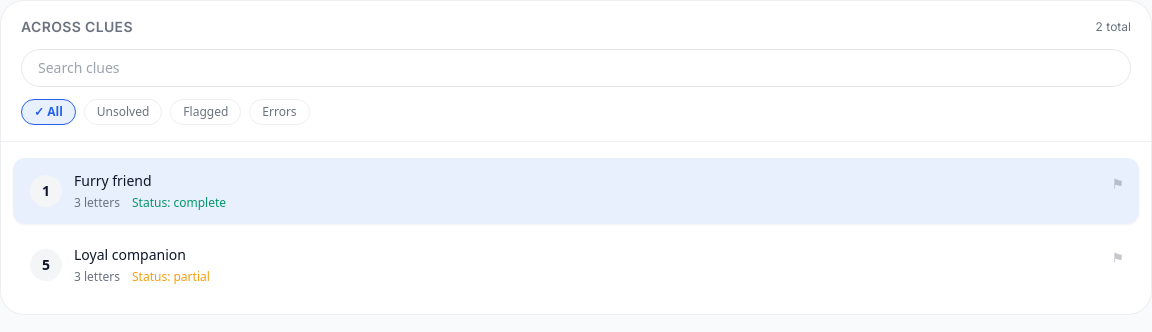
ClueList › renders clue items with computed status and supports filtering
The width and height of the screenshot is (1152, 332).
Expected: the heading "across clues" is shown, x1=21 y1=17 x2=133 y2=37
Expected: the text "Status: complete" is shown, x1=132 y1=195 x2=226 y2=211
Type "loyal" into the field with placeholder "Search clues" at (576, 68), box x1=21 y1=49 x2=1131 y2=87
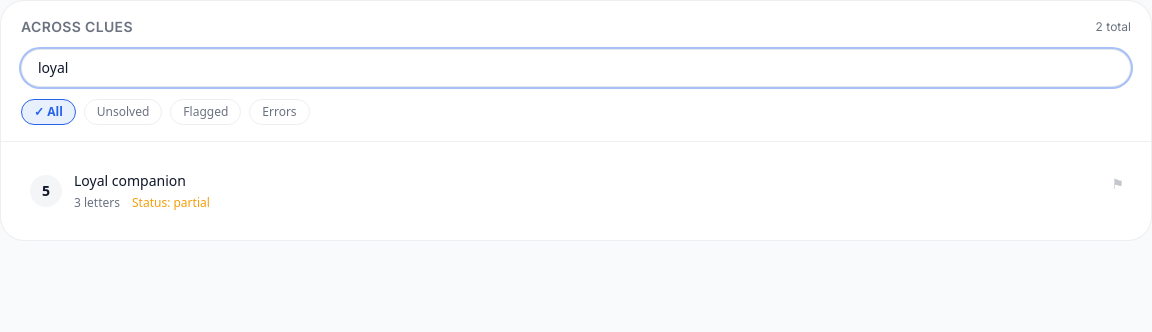
Expected: the text "Loyal companion" is shown, x1=74 y1=171 x2=186 y2=190
Expected: the button "Furry friend" is gone
